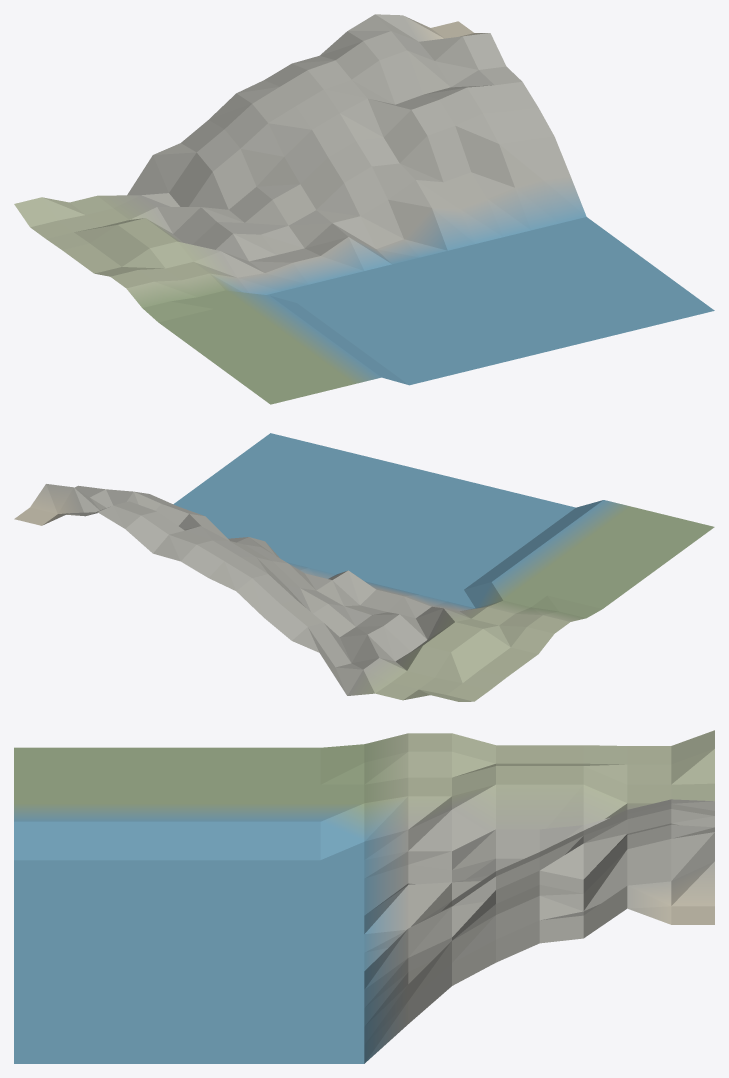
3 renders of one model, top to bottom at view 1: azimuth 30°, elevation 25°; view 2: azimuth 150°, elevation 25°; view 3: azimuth 270°, elevation 25°, orthographic. The views are drawn at different scales.
Bounding box in the file's own units: 32 × 8.88 × 32.
